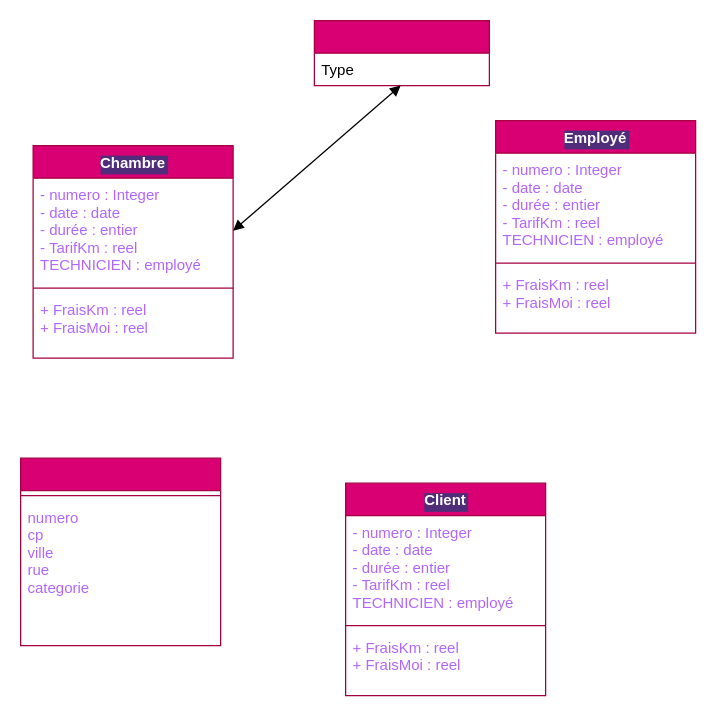
The diagram is 716 pixels wide and 716 high, and some of its shapes have lost their labels. The box of each missing label's shape, as (x1, y1, x2, y2) in pixels:
hotel: (19, 457, 221, 646)
Salle d'eau: (313, 19, 489, 86)
